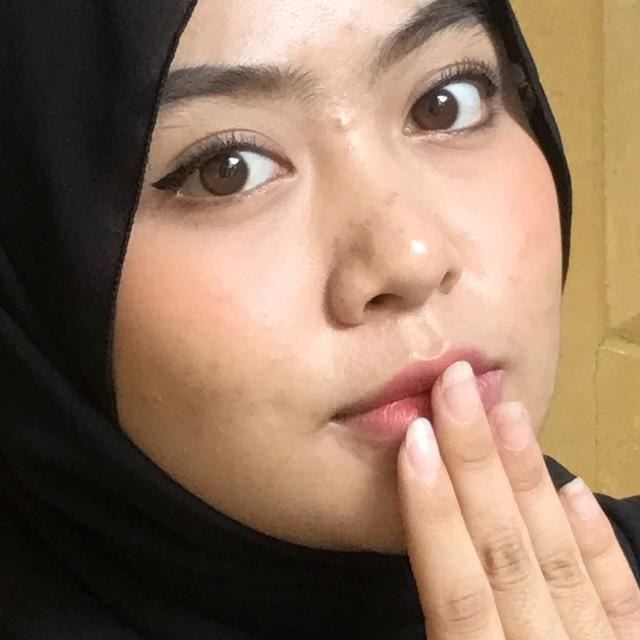ganteng: (270, 346, 640, 640)
